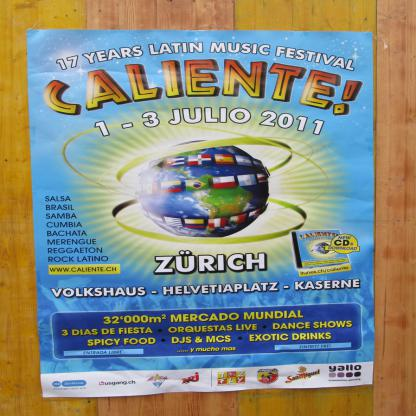Ball: (138, 139, 270, 238)
